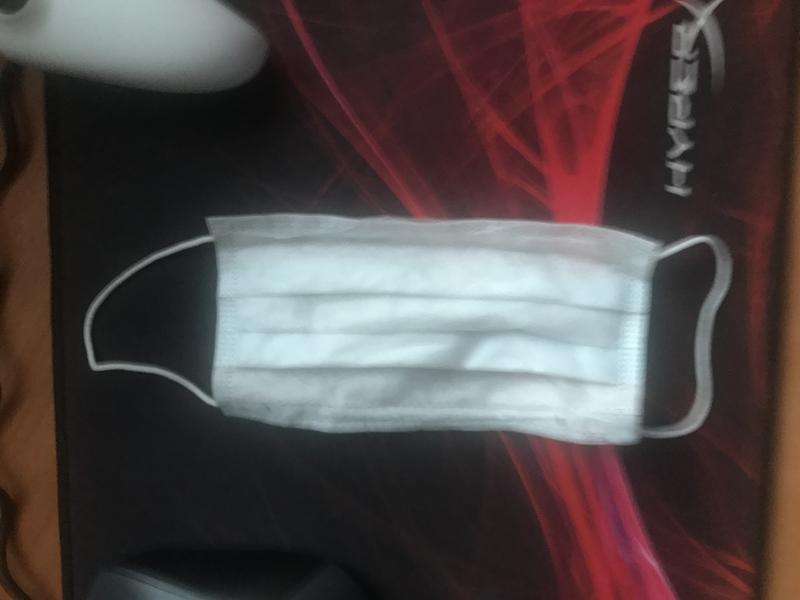medical_mask: (82, 218, 727, 442)
